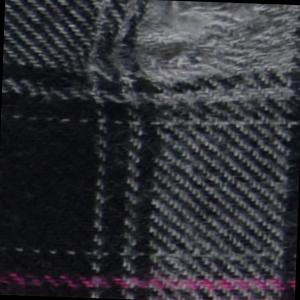Damage: (56, 1, 293, 121)
